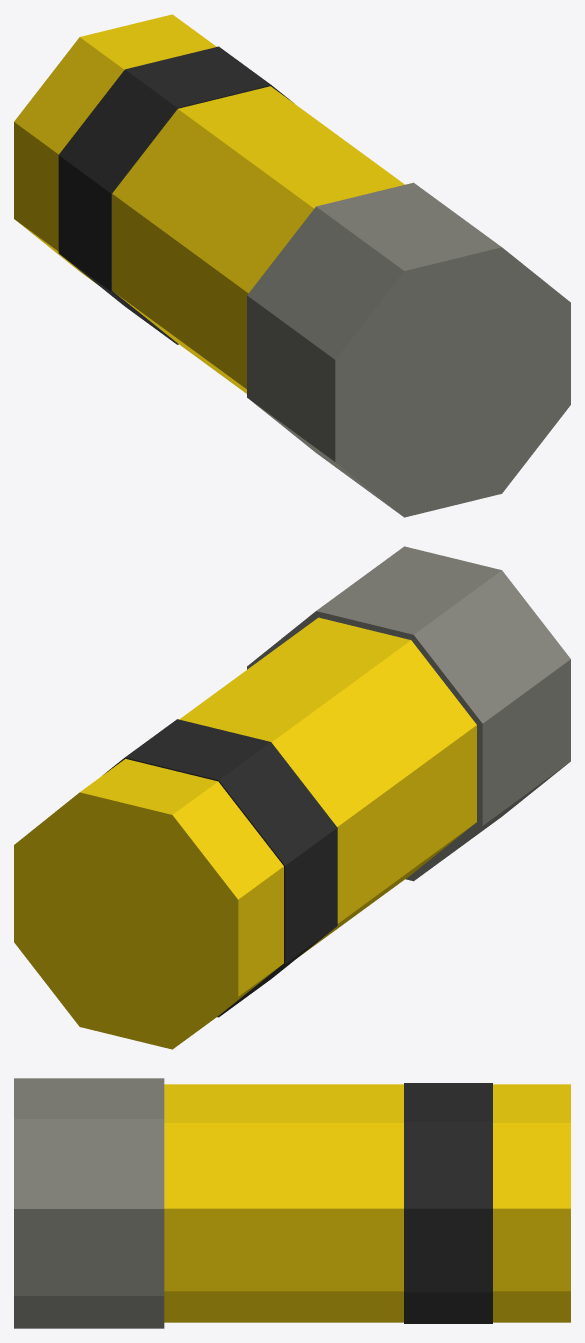
Rendered from ce_ammo_chshotgun_reg_a.obj.
The picture shows the model from 3 angles, top to bottom: view 1: azimuth 30°, elevation 25°; view 2: azimuth 150°, elevation 25°; view 3: azimuth 270°, elevation 25°; orthographic projection. The views are drawn at different scales.
Visible parts, largest first — view 1: ce_ammo_chshotgun_reg_a_0, ce_ammo_chshotgun_reg_a_1, ce_ammo_chshotgun_reg_a_2, ce_ammo_chshotgun_reg_a_3; view 2: ce_ammo_chshotgun_reg_a_3, ce_ammo_chshotgun_reg_a_1, ce_ammo_chshotgun_reg_a_0, ce_ammo_chshotgun_reg_a_2; view 3: ce_ammo_chshotgun_reg_a_1, ce_ammo_chshotgun_reg_a_0, ce_ammo_chshotgun_reg_a_2, ce_ammo_chshotgun_reg_a_3.
Part boxes in pixels (<box>): ce_ammo_chshotgun_reg_a_0: <box>247,182,570,517</box>; ce_ammo_chshotgun_reg_a_1: <box>112,86,404,393</box>; ce_ammo_chshotgun_reg_a_2: <box>58,46,293,344</box>; ce_ammo_chshotgun_reg_a_3: <box>14,14,216,283</box>; ce_ammo_chshotgun_reg_a_3: <box>14,759,283,1049</box>; ce_ammo_chshotgun_reg_a_1: <box>179,617,476,956</box>; ce_ammo_chshotgun_reg_a_0: <box>247,546,570,881</box>; ce_ammo_chshotgun_reg_a_2: <box>102,719,337,1017</box>; ce_ammo_chshotgun_reg_a_1: <box>164,1084,403,1322</box>; ce_ammo_chshotgun_reg_a_0: <box>14,1078,164,1328</box>; ce_ammo_chshotgun_reg_a_2: <box>404,1083,492,1323</box>; ce_ammo_chshotgun_reg_a_3: <box>493,1084,570,1322</box>.
Bounding box in the file's own units: 0.1746 × 0.1746 × 0.42.
